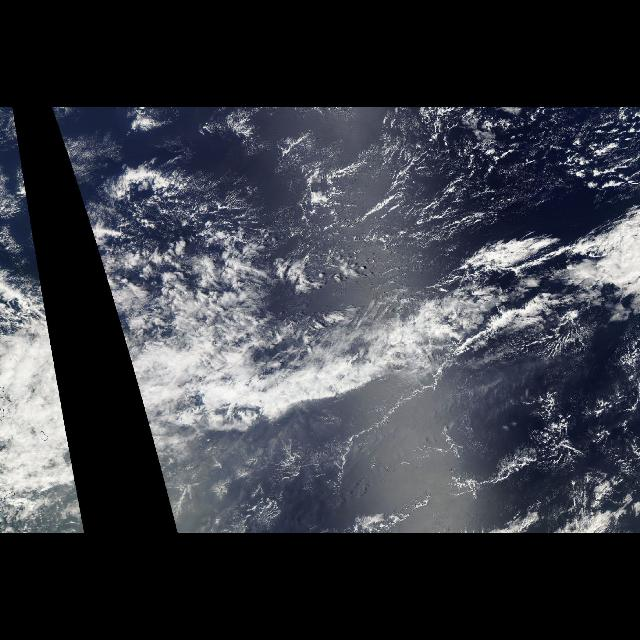Sugar: (112, 195, 578, 442), (374, 120, 628, 216)
